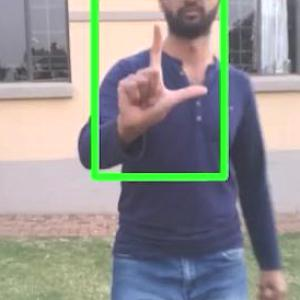land_hand: (105, 12, 215, 147)
